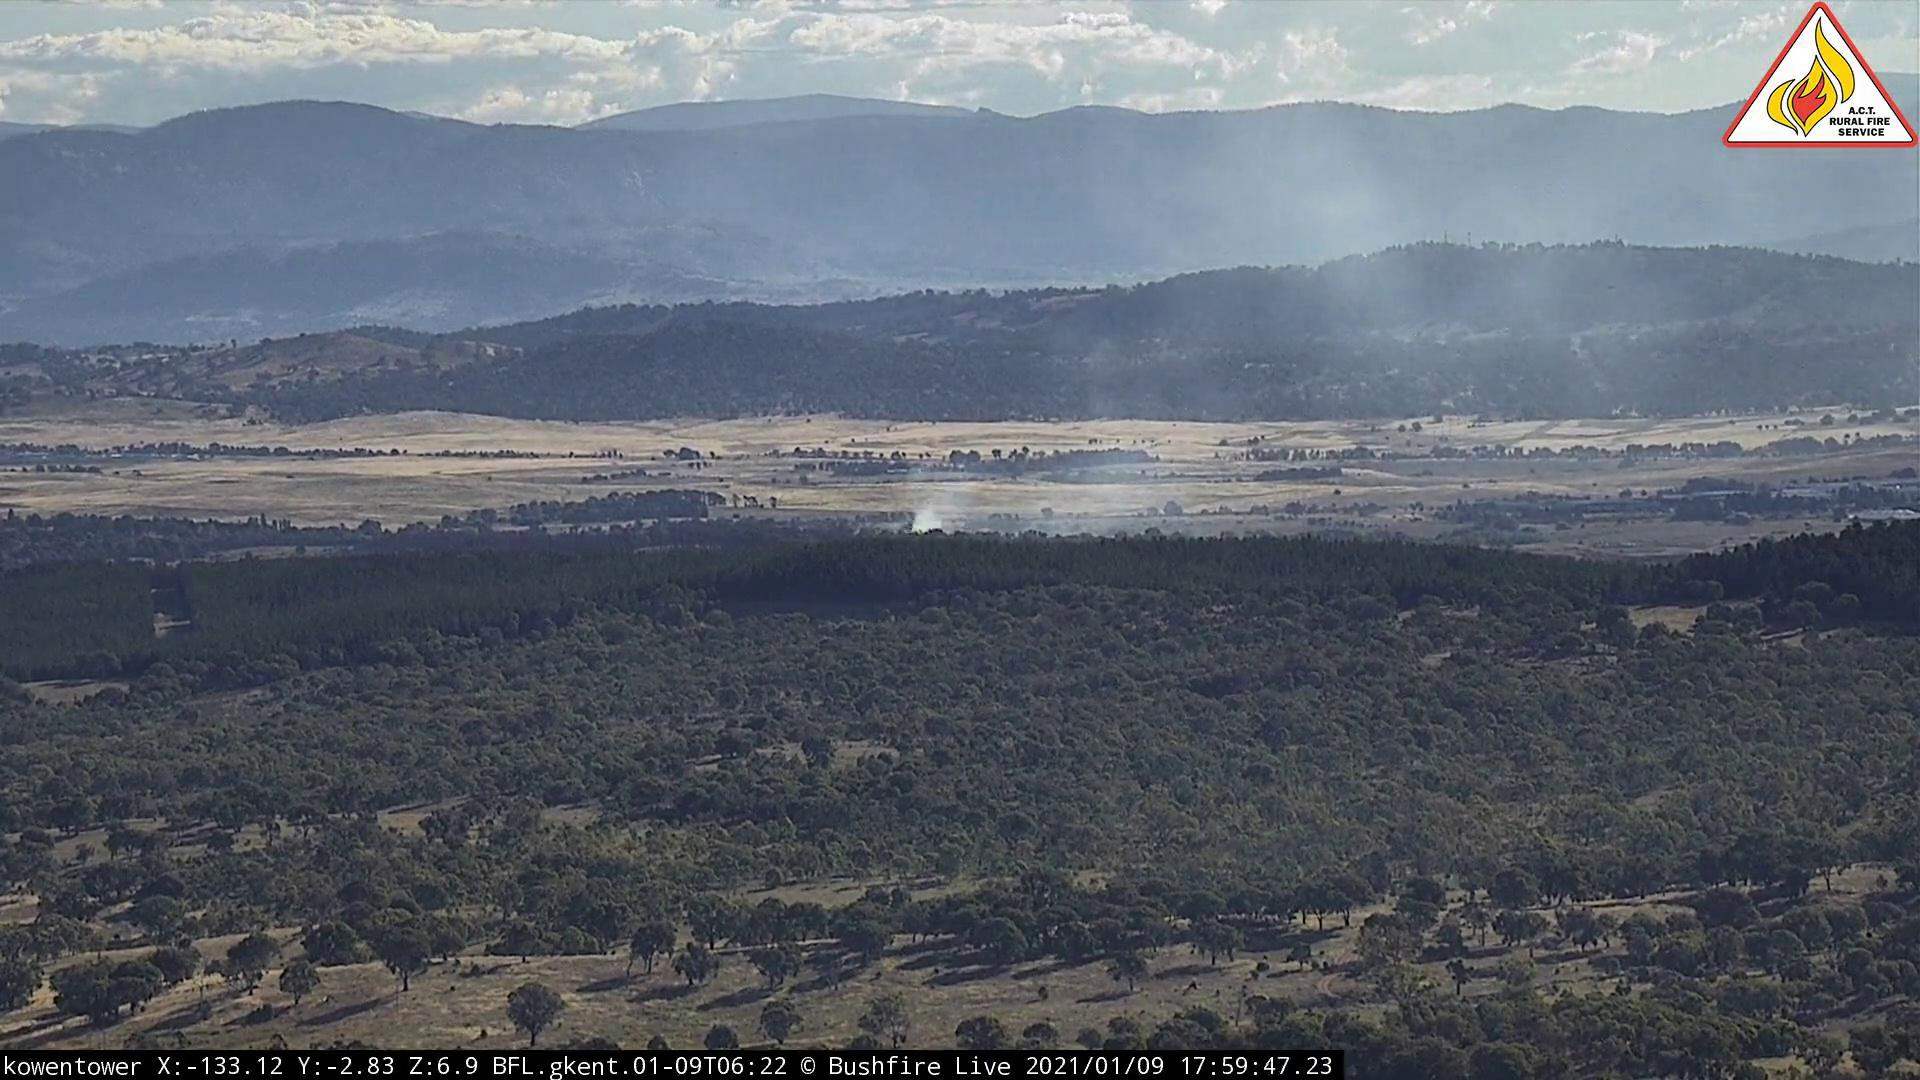instance_salient_object: (897, 265, 1296, 545)
